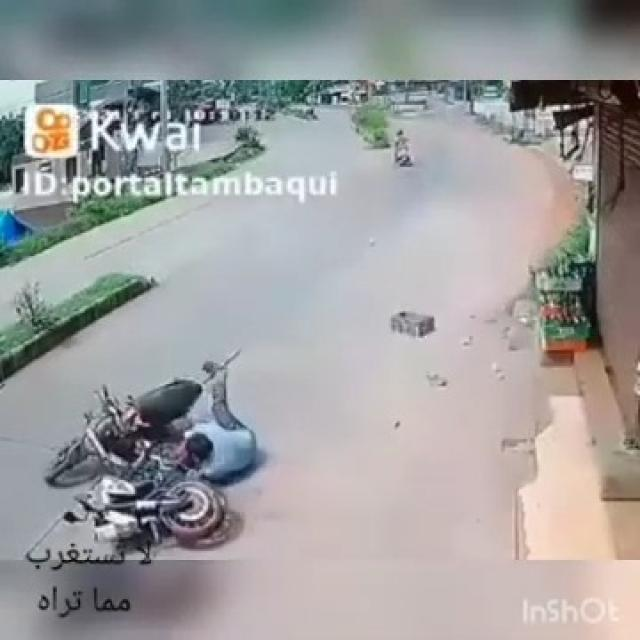accident: (45, 352, 267, 562)
